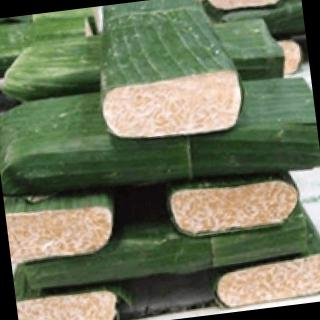Tempe: (1, 1, 320, 320), (1, 63, 320, 205), (11, 198, 312, 296), (89, 1, 247, 145), (182, 71, 320, 183), (100, 68, 247, 146), (165, 170, 304, 242), (4, 185, 121, 267), (1, 32, 109, 103), (1, 10, 97, 80), (17, 288, 122, 320), (25, 11, 93, 44), (202, 1, 289, 14)
